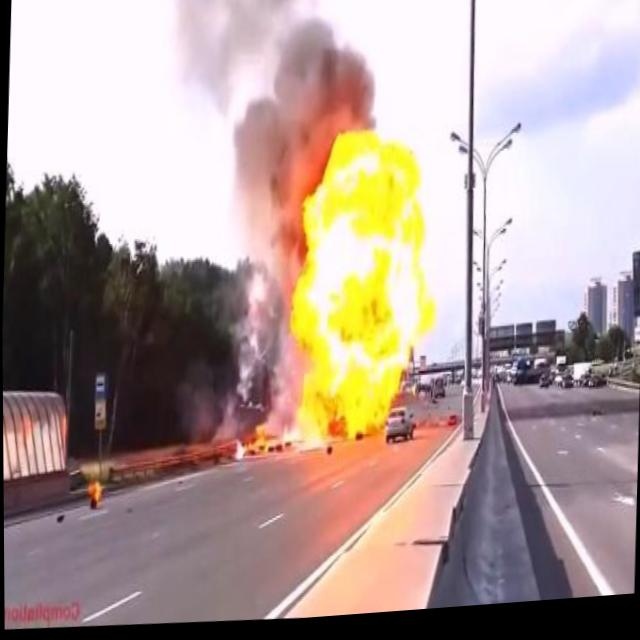fire: (284, 128, 438, 460), (238, 429, 274, 459), (87, 474, 100, 506)
